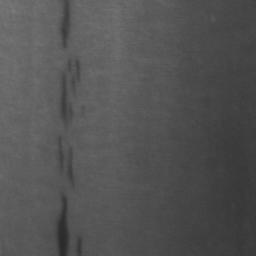Inclusion: (58, 196, 70, 256), (61, 77, 74, 123), (61, 0, 72, 46)
